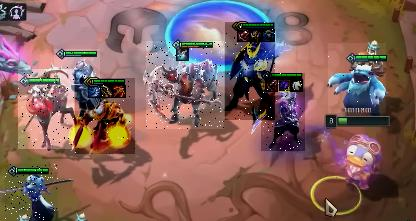1_hecarim: (146, 41, 224, 129)
2_leona: (54, 49, 100, 111)
2_lillia: (18, 69, 74, 149)
2_nunu: (328, 43, 386, 113)
2_yasuo: (261, 73, 305, 151)
2_yone: (5, 164, 58, 221)
3_olaf: (75, 78, 135, 154)
3_pantheon: (225, 22, 275, 120)
